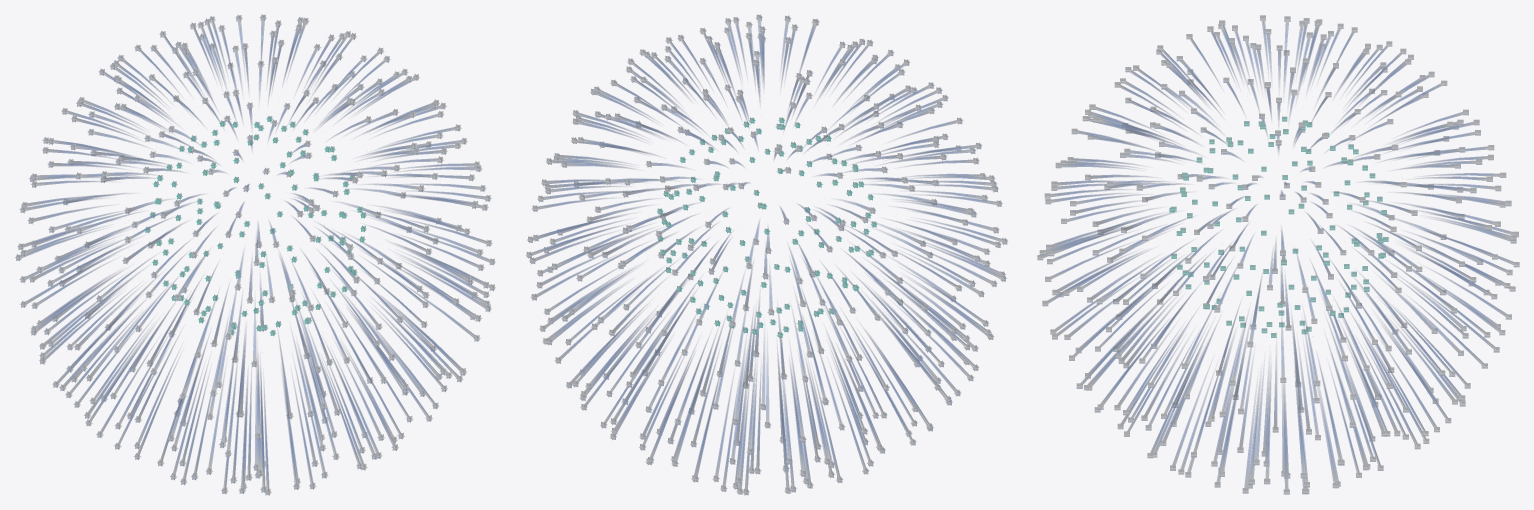
The model's file is fw_peony_teal_silver_b.glb.
3 renders of one model, left to right at view 1: azimuth 30°, elevation 25°; view 2: azimuth 150°, elevation 25°; view 3: azimuth 270°, elevation 25°, orthographic.
Visible parts, largest first — view 1: spire; view 2: spire; view 3: spire.
Part boxes in pixels (x1,y1,x2,y2): spire: [15, 14, 495, 495]; spire: [525, 14, 1007, 495]; spire: [1037, 15, 1519, 494].
Size of the model in its own units: 22.15 by 22.23 by 22.26.
2 materials, 2 textured.
